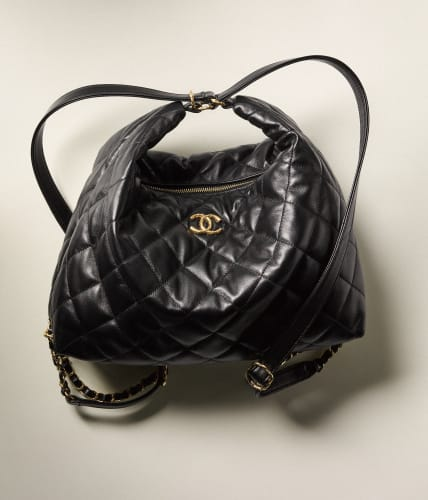channel: (33, 93, 399, 386), (181, 208, 236, 246)
